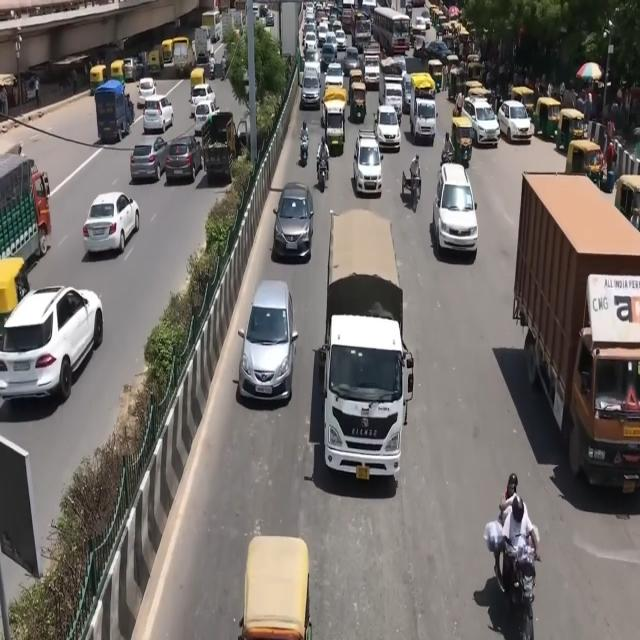auto: (566, 138, 604, 184), (556, 106, 587, 154), (534, 96, 563, 143), (451, 114, 474, 168), (511, 85, 536, 127), (348, 79, 368, 125), (449, 65, 467, 102), (427, 58, 444, 92), (89, 64, 107, 96), (110, 59, 127, 87), (466, 57, 483, 84), (190, 67, 205, 93), (148, 48, 162, 74), (161, 39, 174, 66)
bike-auto: (492, 523, 540, 640), (400, 150, 425, 219), (317, 135, 330, 194), (317, 135, 330, 180), (441, 131, 455, 165), (299, 125, 309, 164), (220, 54, 228, 80)
